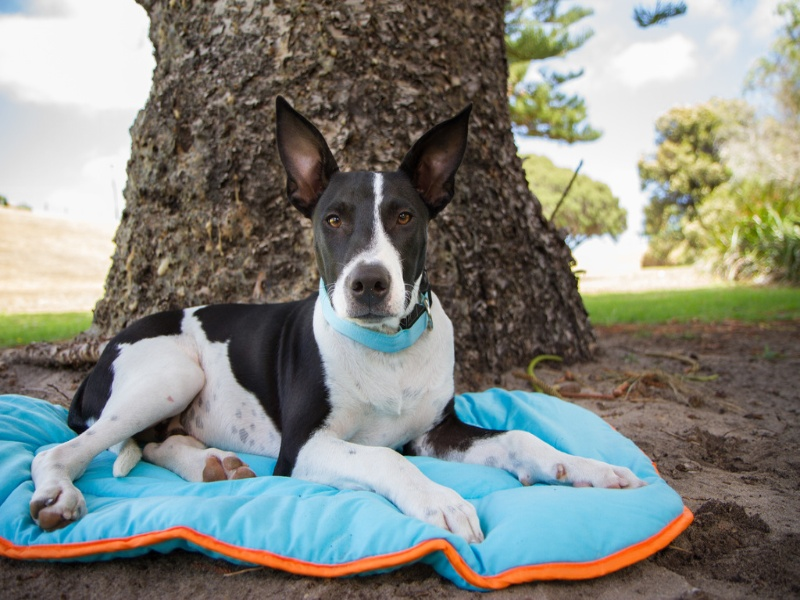dog: (23, 91, 650, 529)
